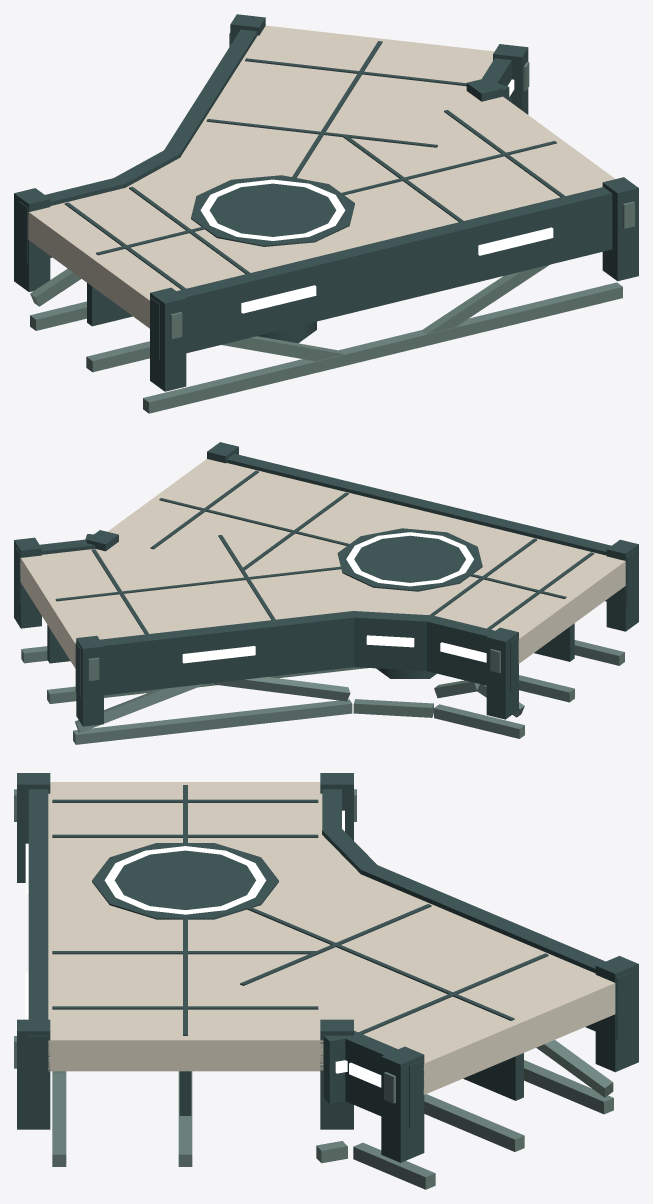
File: Junction_T45_lab.glb
3 views of the same model, one above another, from view 1: azimuth 30°, elevation 25°; view 2: azimuth 150°, elevation 25°; view 3: azimuth 270°, elevation 25° (orthographic). The views are drawn at different scales.
Parts seen in each view (by area): view 1: Junction_T45; view 2: Junction_T45; view 3: Junction_T45.
Part boxes in pixels (x1,y1,x2,y2): Junction_T45: (14, 14, 638, 413); Junction_T45: (14, 442, 638, 744); Junction_T45: (14, 773, 638, 1189).
Bounding box in the file's own units: 7.01 × 1.58 × 6.34.
